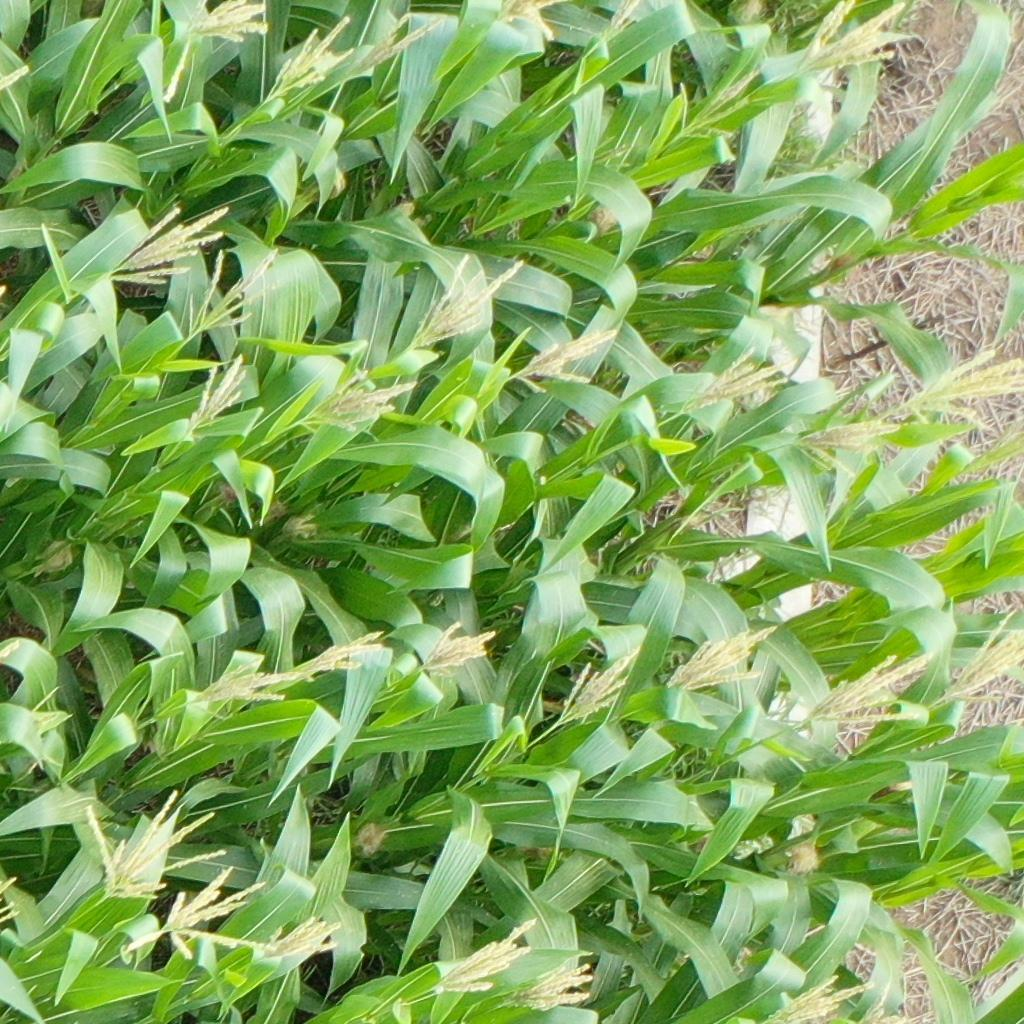Tassel: (81, 793, 227, 901), (127, 867, 265, 961), (105, 205, 230, 297), (409, 253, 526, 351), (161, 1, 267, 104), (904, 350, 1024, 431), (803, 653, 934, 726), (300, 363, 418, 440), (186, 248, 279, 344), (934, 609, 1024, 701), (429, 918, 539, 992), (684, 345, 800, 415), (801, 1, 913, 73), (662, 625, 782, 692), (790, 411, 902, 481), (268, 14, 353, 103), (515, 328, 616, 398), (672, 68, 758, 146), (559, 649, 641, 726), (350, 16, 445, 80), (185, 352, 246, 440), (770, 975, 873, 1023), (500, 962, 595, 1013), (195, 662, 303, 706), (424, 622, 500, 677), (302, 627, 385, 675), (262, 915, 347, 961), (494, 1, 569, 41), (960, 426, 1024, 472), (29, 688, 72, 733), (600, 1, 642, 44), (858, 993, 909, 1024), (589, 135, 633, 169), (1, 876, 23, 926)
